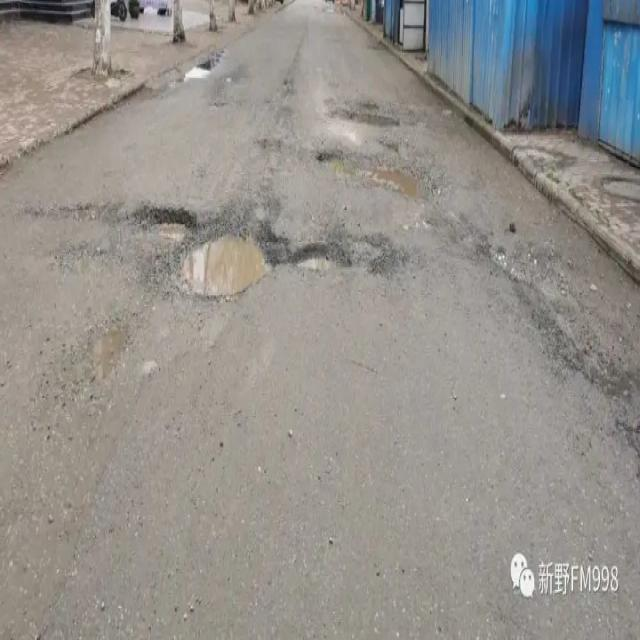Pothole: (170, 227, 274, 295), (368, 160, 426, 199), (131, 209, 195, 239), (294, 245, 342, 273), (348, 106, 399, 129)
